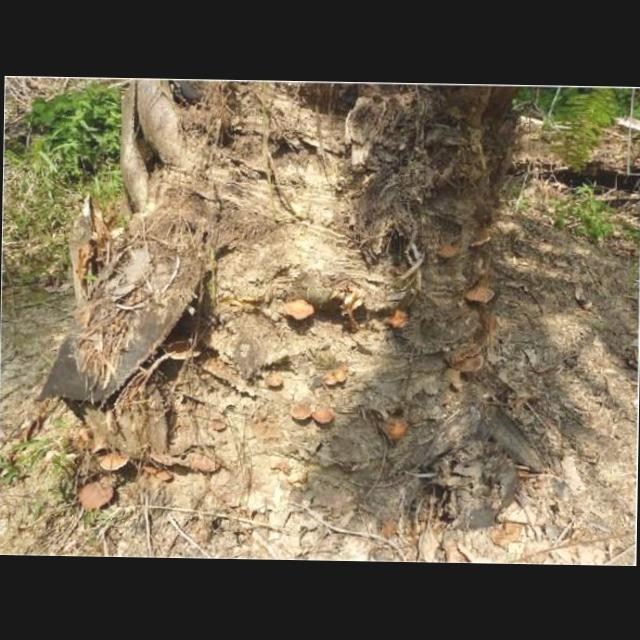ganoderma: (446, 342, 486, 374), (379, 413, 410, 442), (189, 450, 222, 474), (165, 341, 202, 361), (284, 298, 315, 321), (97, 453, 130, 472), (464, 286, 495, 304), (469, 231, 492, 249), (290, 404, 313, 422), (324, 369, 348, 386), (265, 375, 283, 391), (313, 410, 335, 423), (155, 472, 174, 482), (211, 421, 228, 432), (143, 464, 159, 475)
